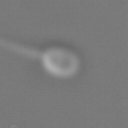normal: (1, 33, 41, 62)
